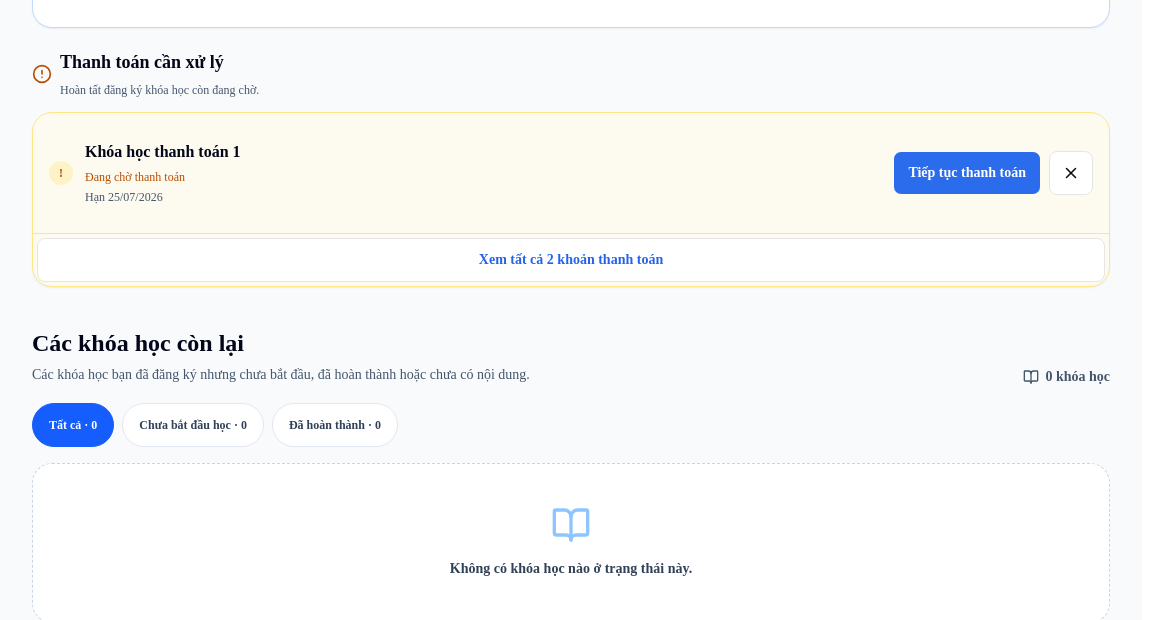
LearnDashboardClient payment interactions › closes the sheet and removes the payment section after dismissing the final item
(page scrolled)
Click the button "Xem tất cả 2 khoản thanh toán" at (571, 260), box [37, 238, 1105, 282]
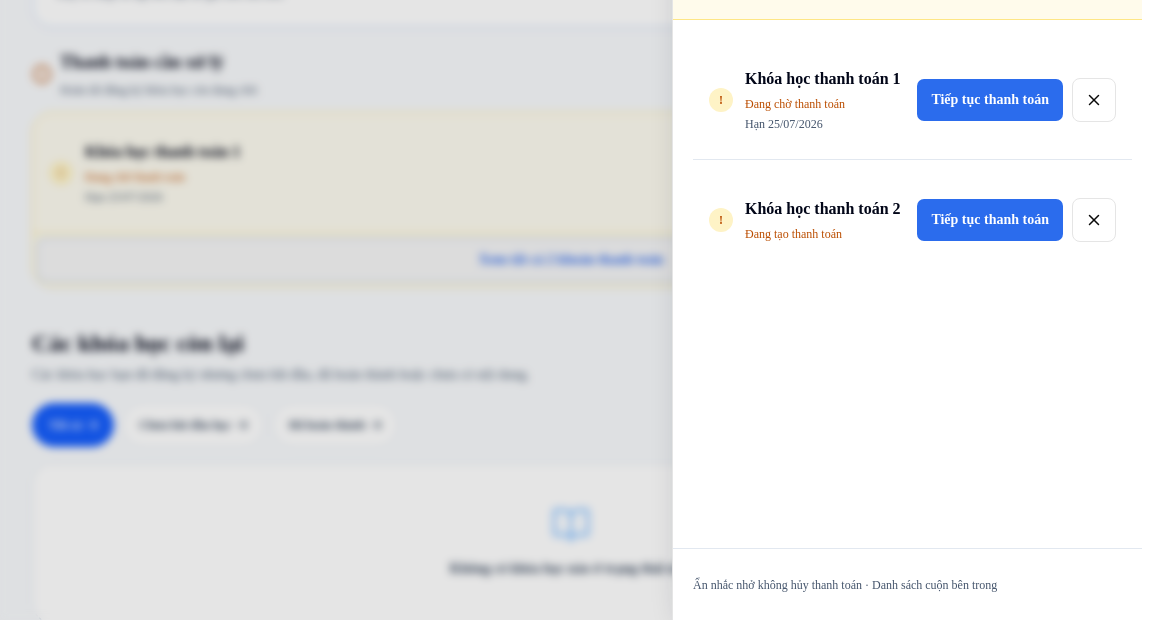
Click the button named "Ẩn nhắc nhở này: Khóa học thanh toán 1" at (1094, 100), box [1072, 78, 1116, 122]
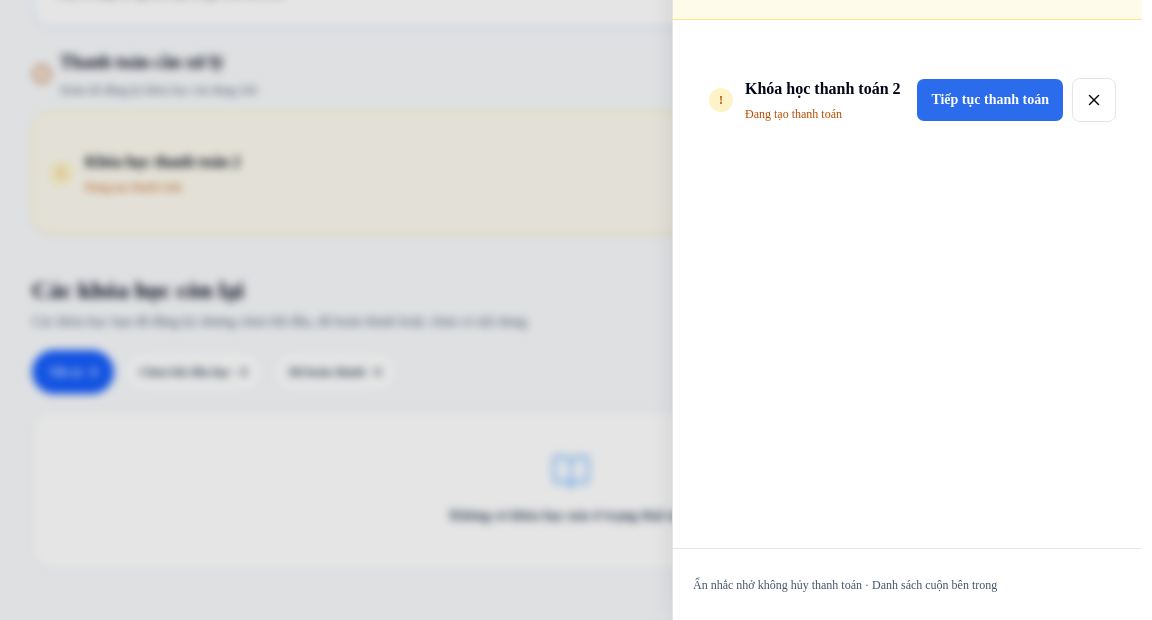
Expected: the heading "Khóa học thanh toán 1" is gone
Click the button named "Ẩn nhắc nhở này: Khóa học thanh toán 2" at (1094, 100), box [1072, 78, 1116, 122]
(page scrolled)
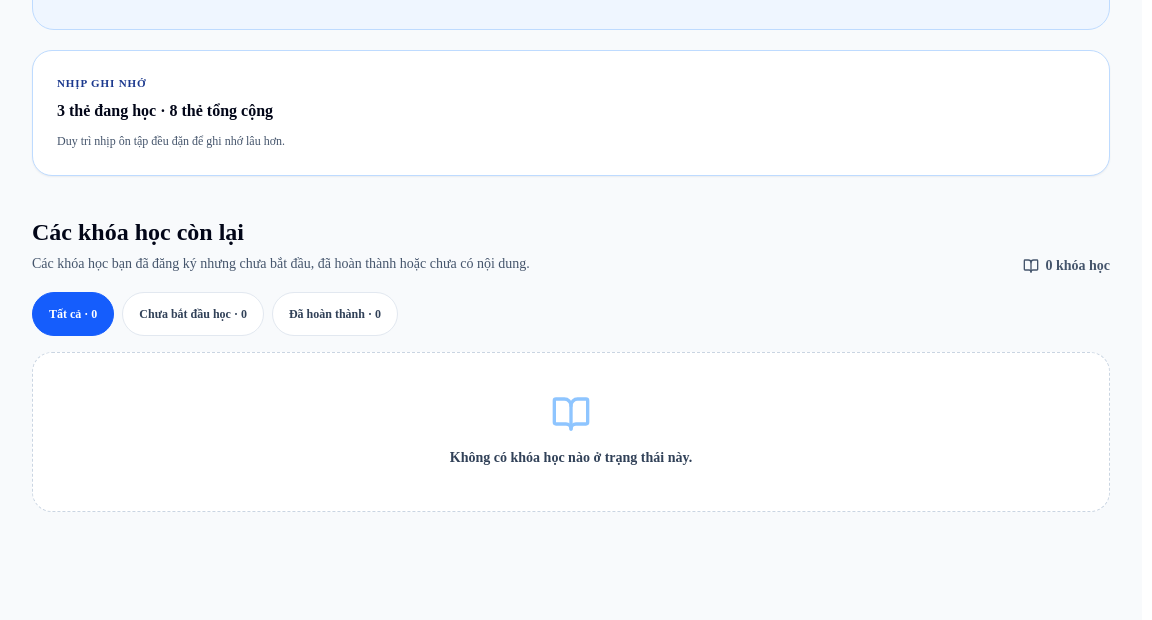
Expected: the heading "Thanh toán cần xử lý" is gone
